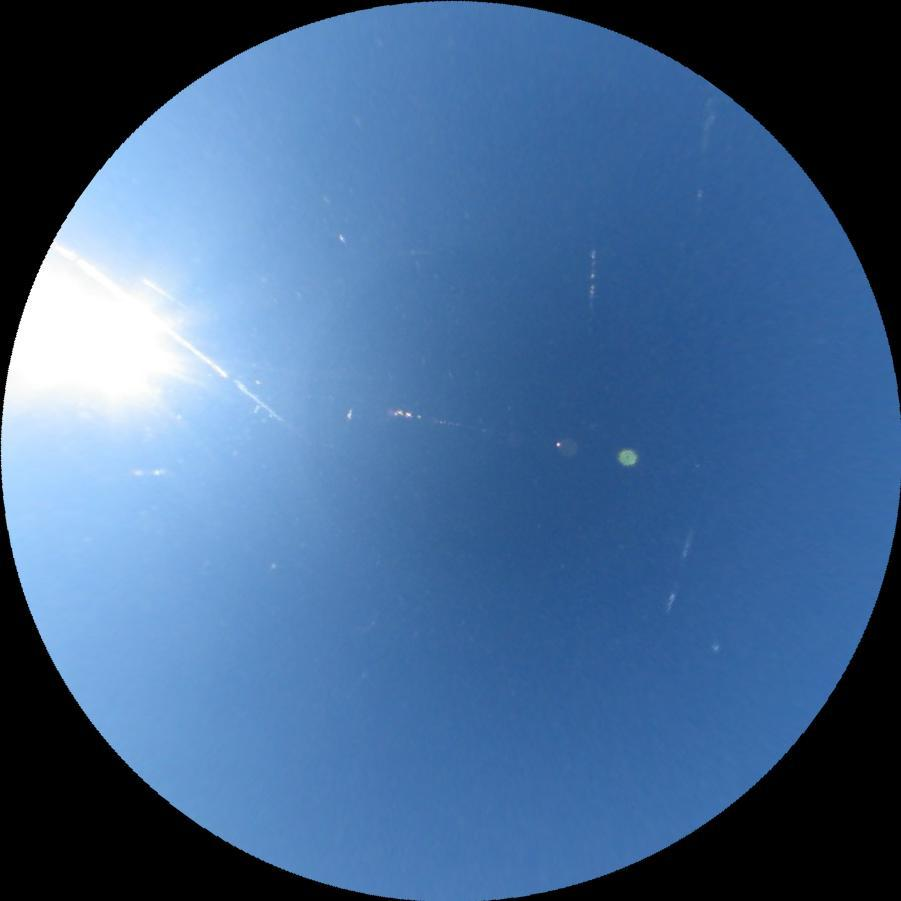contrail young: (398, 247, 432, 257)
parasite: (48, 237, 294, 428), (662, 527, 699, 616), (693, 101, 720, 203), (586, 248, 595, 332)
sun: (0, 238, 210, 454)
unknow: (141, 277, 197, 317)
